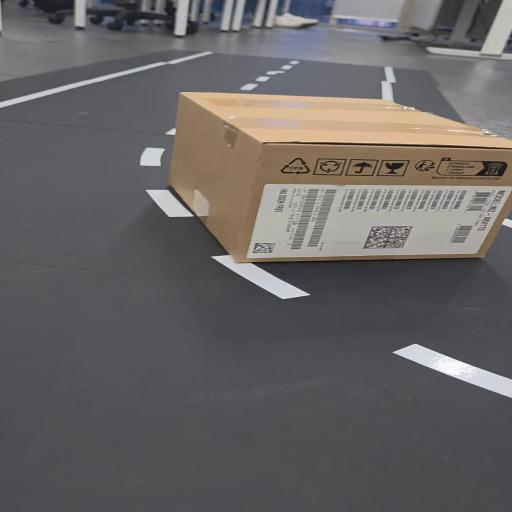Box: (158, 86, 512, 274)
